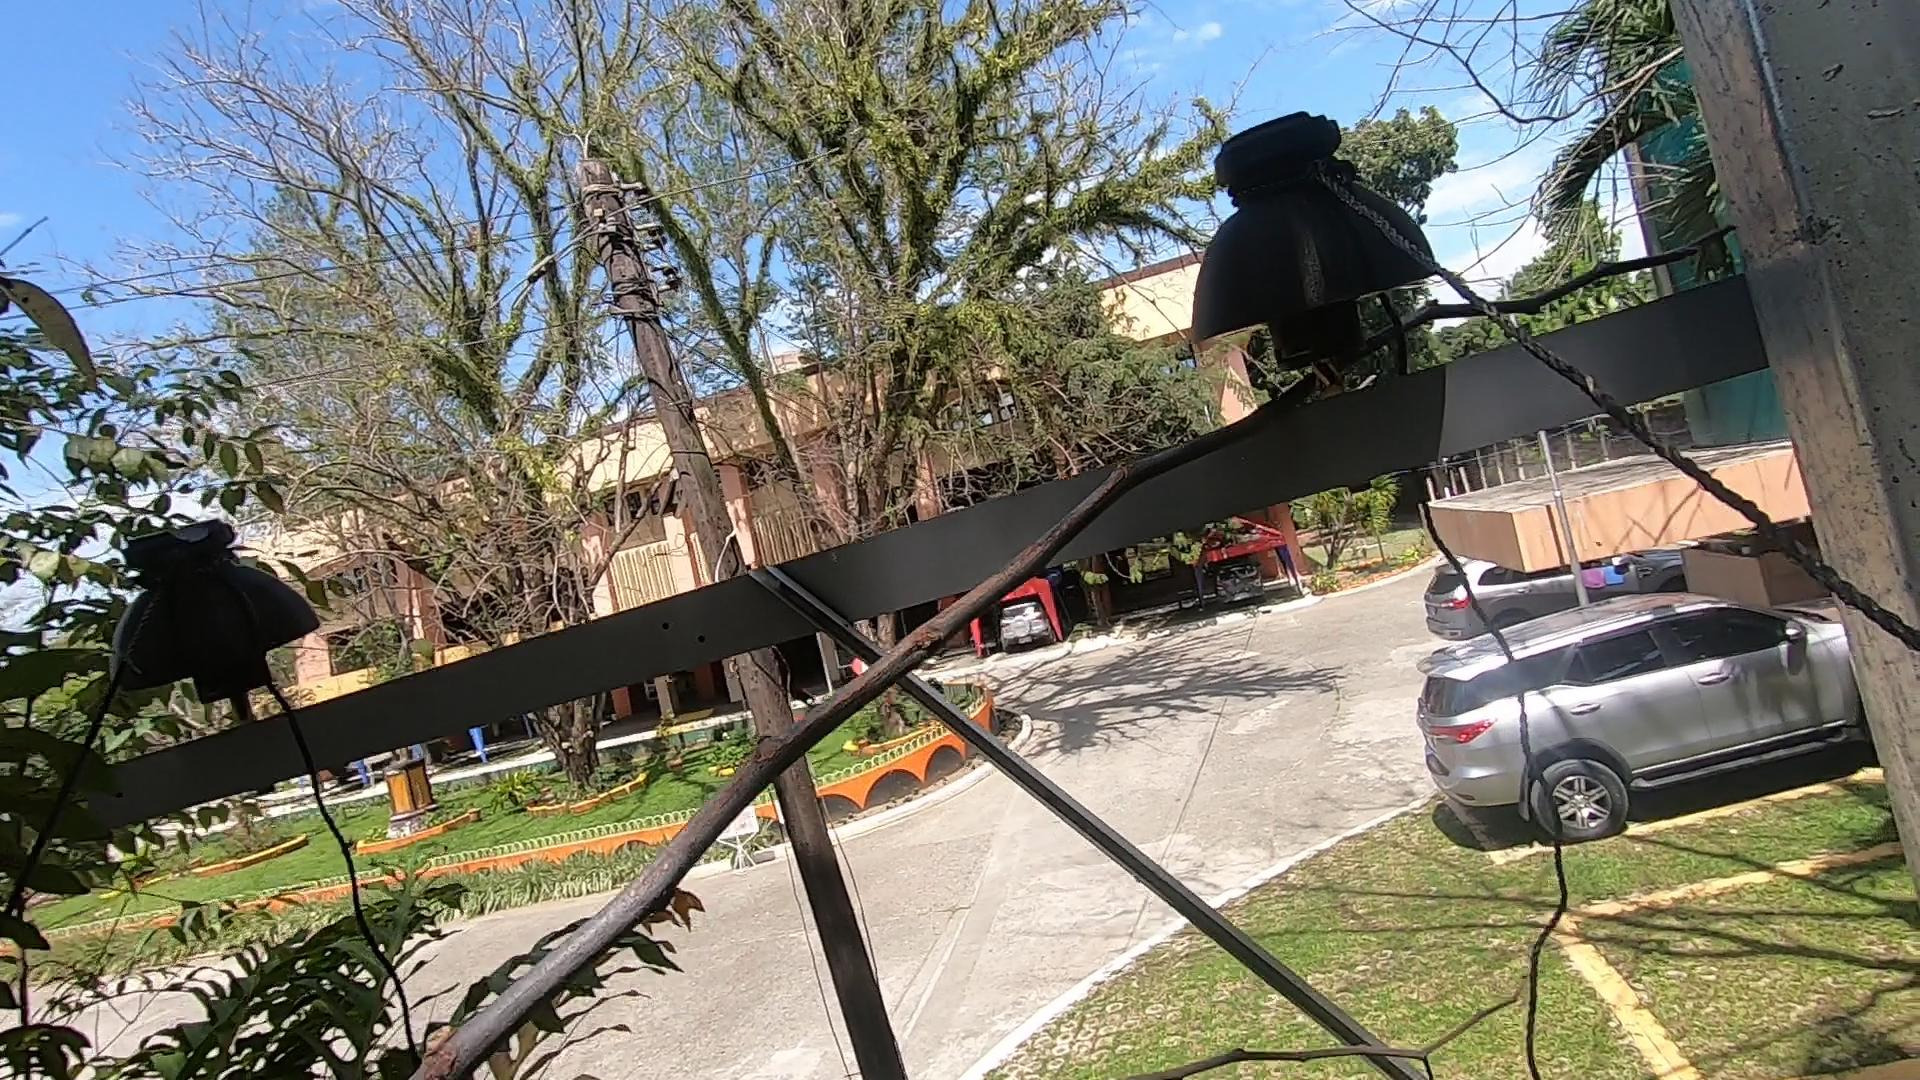tree branch: (394, 148, 1824, 1077)
